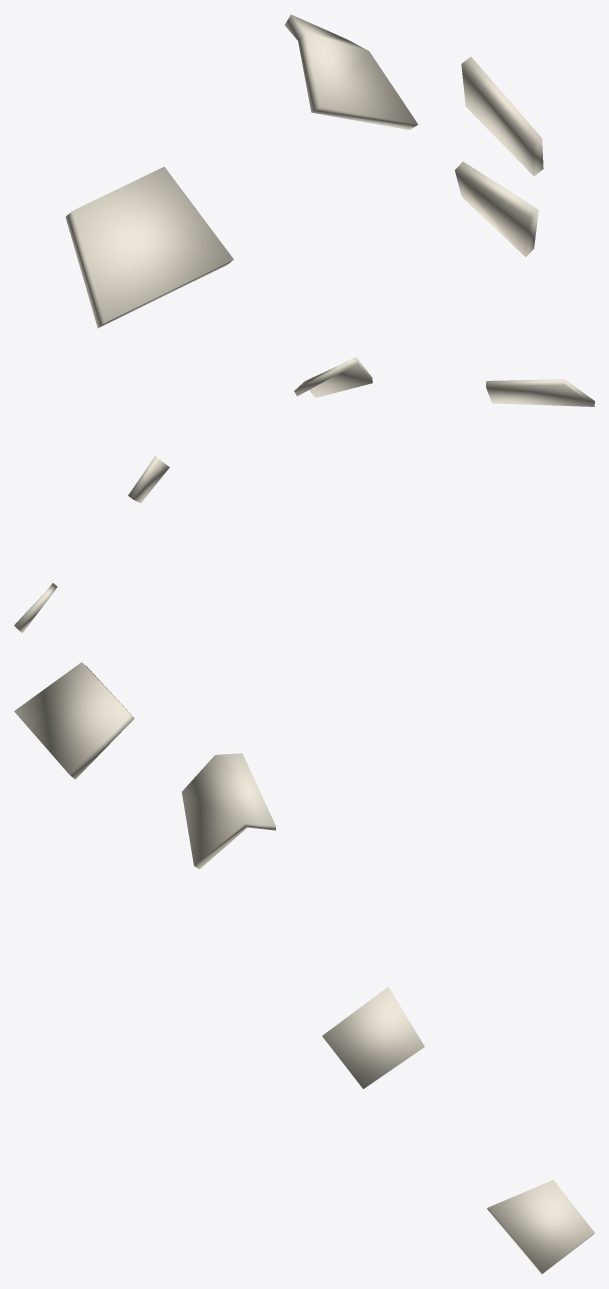
The picture shows the model from 3 angles, top to bottom: view 1: azimuth 30°, elevation 25°; view 2: azimuth 150°, elevation 25°; view 3: azimuth 270°, elevation 25°; orthographic projection. The views are drawn at different scales.
Parts seen in each view (by area): view 1: ZA_76e077324c308d3c; view 2: ZA_76e077324c308d3c; view 3: ZA_76e077324c308d3c.
Part boxes in pixels (<box>): ZA_76e077324c308d3c: <box>65,14,543,328</box>; ZA_76e077324c308d3c: <box>14,357,594,633</box>; ZA_76e077324c308d3c: <box>14,662,594,1274</box>.
Bounding box in the file's own units: 0.0368 × 0.0221 × 0.0319.
